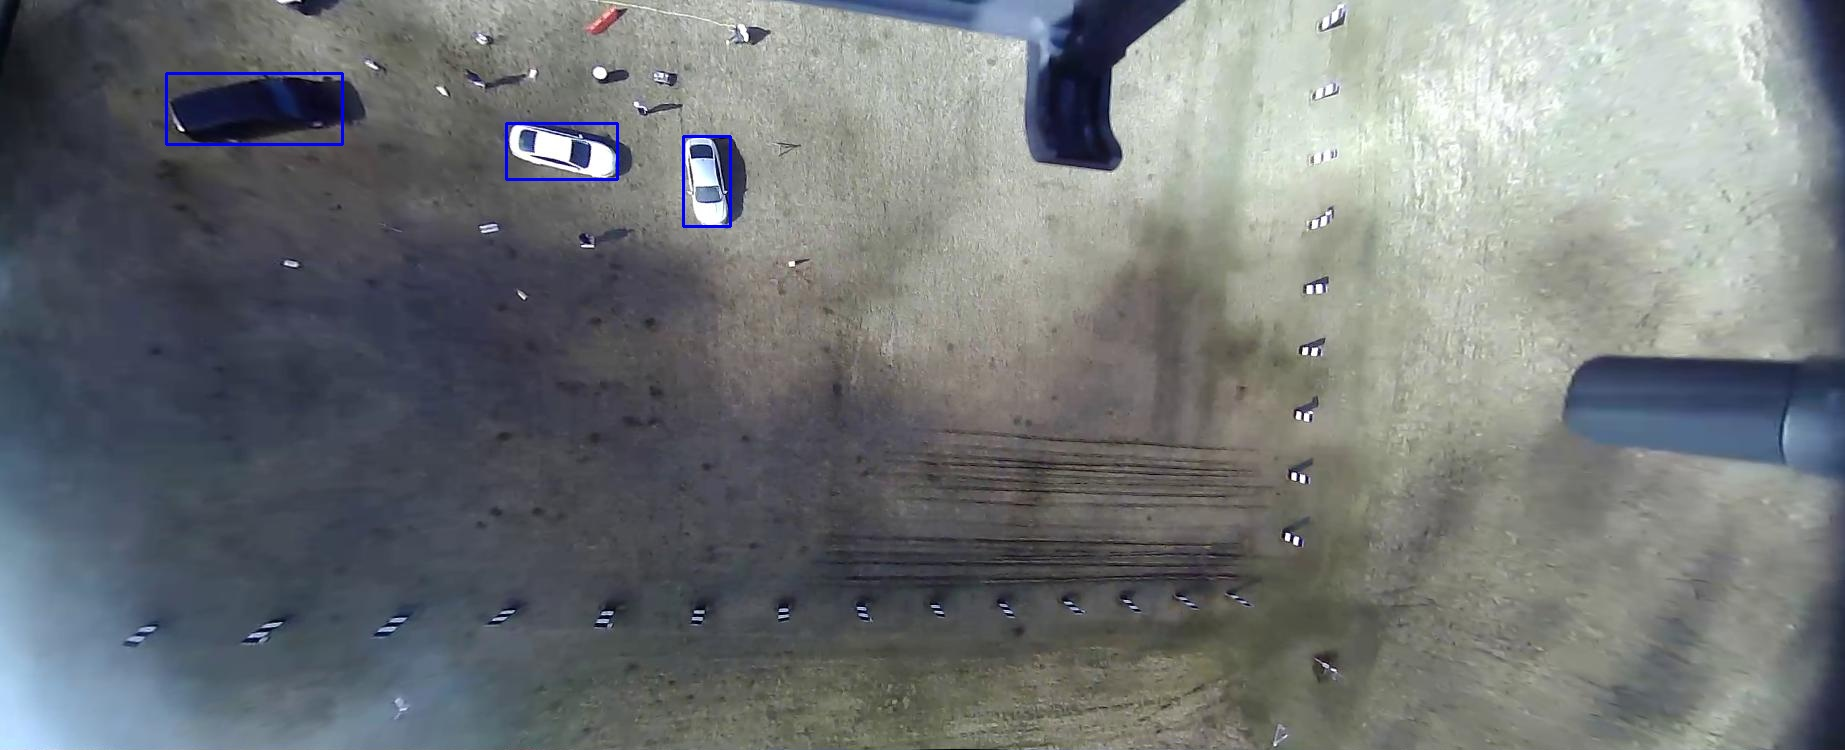vehicle: (73, 166, 144, 341), (124, 506, 179, 617), (136, 683, 226, 730)
